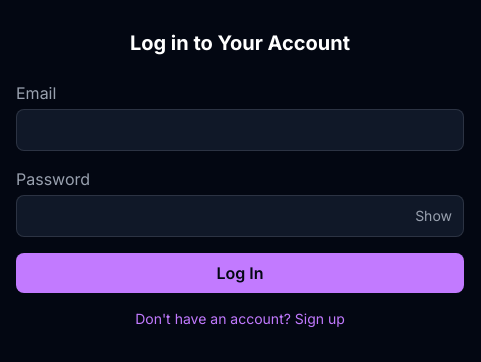
it: LoginPage › shows friendly error on wrong credentials
Type "test@example.com" into the field labelled "Email" at (240, 130), box 16,109 -> 464,151
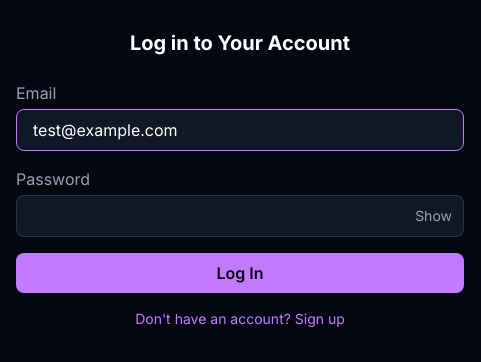
Type "wrong" into the password field labelled "Password" at (240, 216), box 16,195 -> 464,237
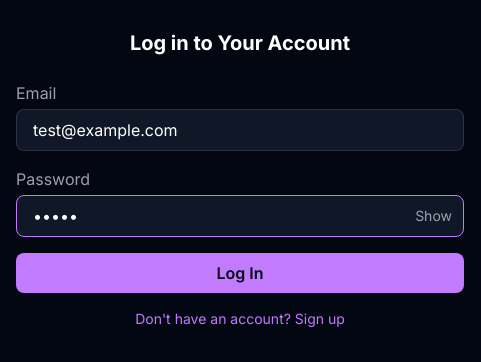
Click the button "Log In" at (240, 273), box 16,253 -> 464,293
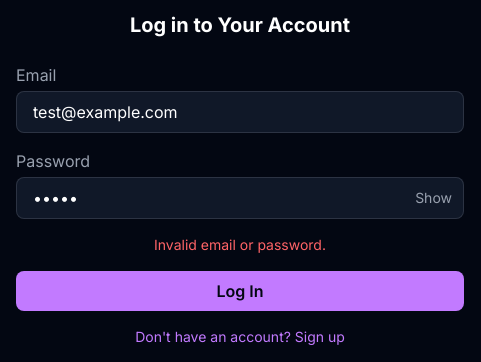
Now the text "Invalid email or password." is shown, box 154,236 -> 326,253
